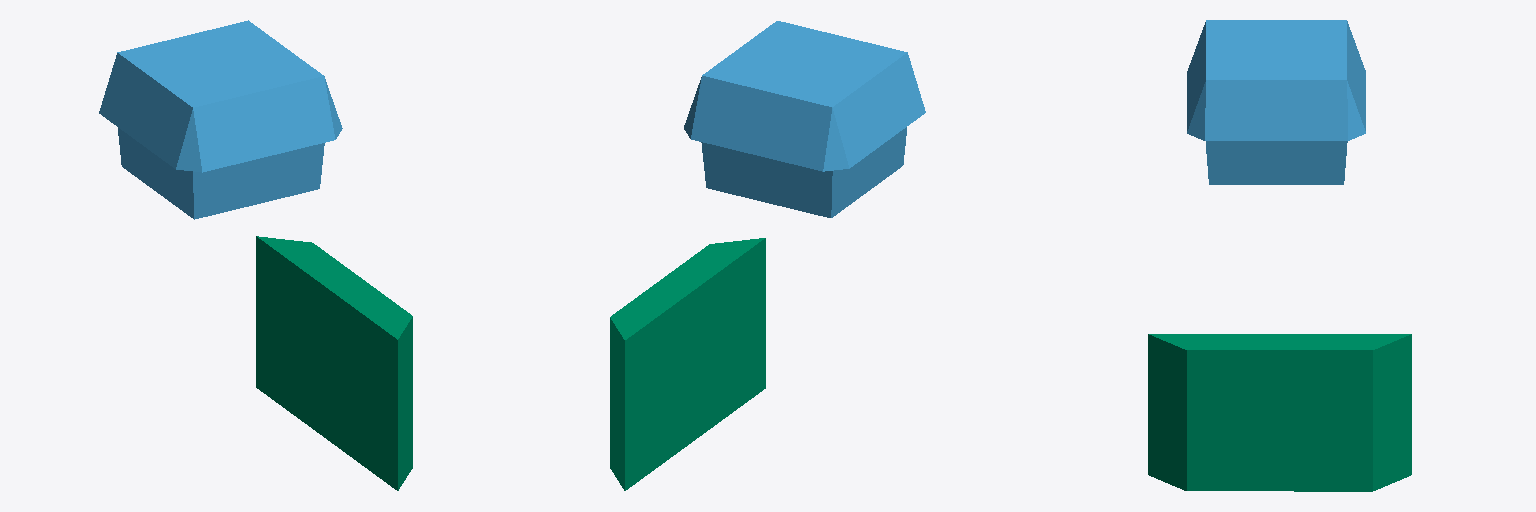
The robot description file, URDF, robot "salt_shaker":
<?xml version="1.0"?>
<robot name="salt_shaker">
  <link name="body">
    <inertial>
        <origin rpy="0 0 0" xyz="0 0 0"/>
        <mass value="0.02"/>
        <inertia ixx="4.4e-5" ixy="0" ixz="0" iyy="0" iyz="0" izz="4.4e-5"/>
    </inertial>
    <visual>
      <geometry>
        <mesh filename="body.obj"/>
      </geometry>
    </visual>
    <collision>
      <geometry>
        <mesh filename="body.obj"/>
      </geometry>
      <surface>
           <bounce restitution_coefficient = "0.1"/>
      </surface>
    </collision>
  </link>
  <link name="cap">
    <inertial>
        <origin rpy="0 0 0" xyz="0 0 0"/>
        <mass value="0.005"/>
        <inertia ixx="4.4e-5" ixy="0" ixz="0" iyy="0" iyz="0" izz="4.4e-5"/>
    </inertial>
    <visual>
      <geometry>
        <mesh filename="cap.obj"/>
      </geometry>
    </visual>
    <collision>
      <geometry>
        <mesh filename="cap.obj"/>
      </geometry>
      <surface>
           <bounce restitution_coefficient = "0.1"/>
      </surface>
    </collision>
  </link>
  <link name="label">
    <inertial>
        <origin rpy="0 0 0" xyz="0 0 0"/>
        <mass value="0.02"/>
        <inertia ixx="4.4e-5" ixy="0" ixz="0" iyy="0" iyz="0" izz="4.4e-5"/>
    </inertial>
    <visual>
      <geometry>
        <mesh filename="label.obj"/>
      </geometry>
    </visual>
    <collision>
      <geometry>
        <mesh filename="label.obj"/>
      </geometry>
      <surface>
           <bounce restitution_coefficient = "0.1"/>
      </surface>
    </collision>
  </link>
  <joint name="body_to_cap" type="fixed">
    <parent link="body"/>
    <child link="cap"/>
    <origin rpy="0 0 0" xyz="0 0 0.05"/>
  </joint>
  <joint name="body_to_label" type="fixed">
    <parent link="body"/>
    <child link="label"/>
    <origin rpy="0 0 3.141" xyz="0.025 0 0"/>
  </joint>
</robot>

--- Facts derived from the render (not from the file) ---
Views: 3 orthographic renders of the robot side by side, from view 1: azimuth 30°, elevation 25°; view 2: azimuth 150°, elevation 25°; view 3: azimuth 270°, elevation 25°.
Model salt_shaker with 3 links and 2 joints (2 fixed), rooted at body, posed all joints at 0.
Visible links, largest first — view 1: cap, label; view 2: cap, label; view 3: label, cap.
Boxes of the visible links, left/top/right/bottom form: cap: left=99, top=20, right=342, bottom=219; label: left=256, top=236, right=412, bottom=490; cap: left=684, top=21, right=925, bottom=217; label: left=610, top=238, right=765, bottom=490; label: left=1148, top=334, right=1411, bottom=491; cap: left=1187, top=20, right=1365, bottom=184.
Bounding box of the posed robot: 0.044 × 0.0475 × 0.0745 m (x, y, z).
Meshes: 3 distinct files referenced, 2 mesh visuals loaded (2 OBJ); not drawn: 1 (reference not matched to a file when rendering).
